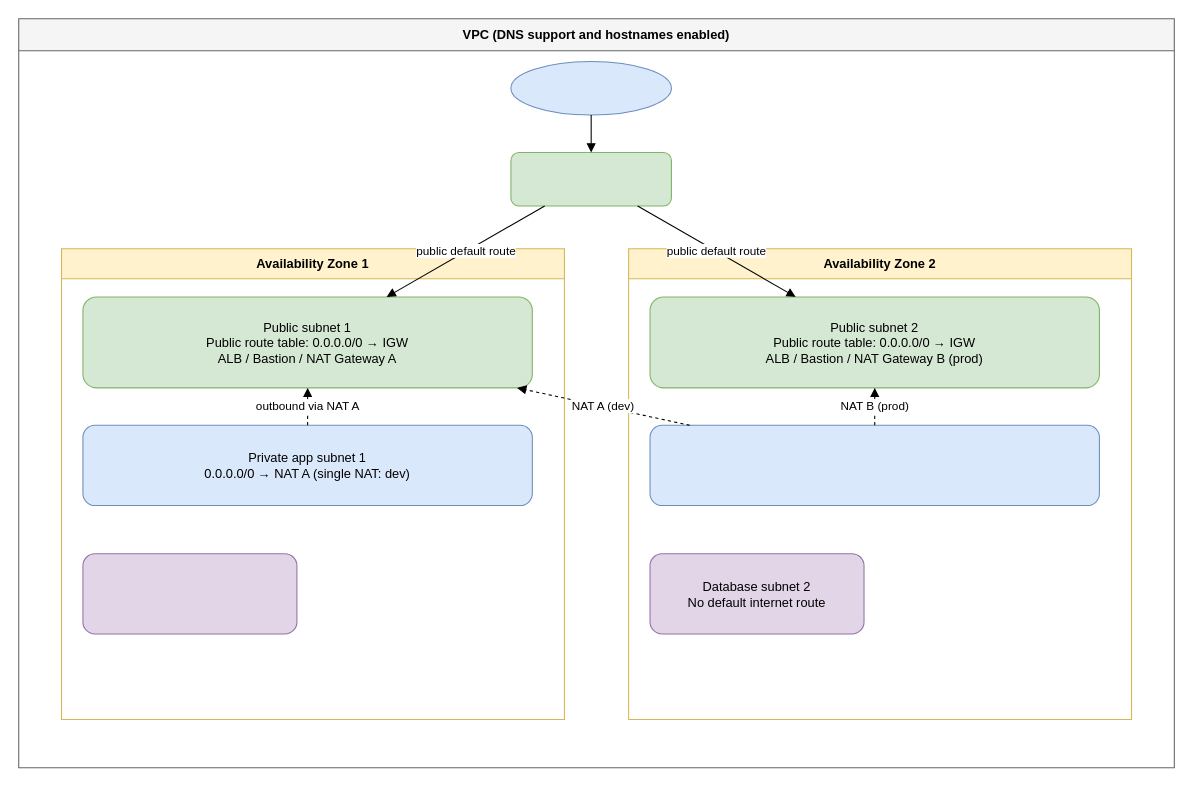
Some shapes in this 1193 by 786 pixel diagram are drawn without their labels. The centre of each missing label's shape, as x and y in pixels:
"Database subnet 1 No default internet route" goes at (x=189, y=593).
"Internet" goes at (x=590, y=87).
"Internet Gateway" goes at (x=590, y=178).
"Private app subnet 2 0.0.0.0/0 → NAT A (dev) or NAT B (prod)" goes at (x=874, y=465).
